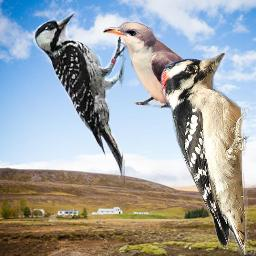Cuckoo: (103, 22, 222, 114)
Woodpecker: (160, 53, 250, 255), (32, 12, 129, 185)
